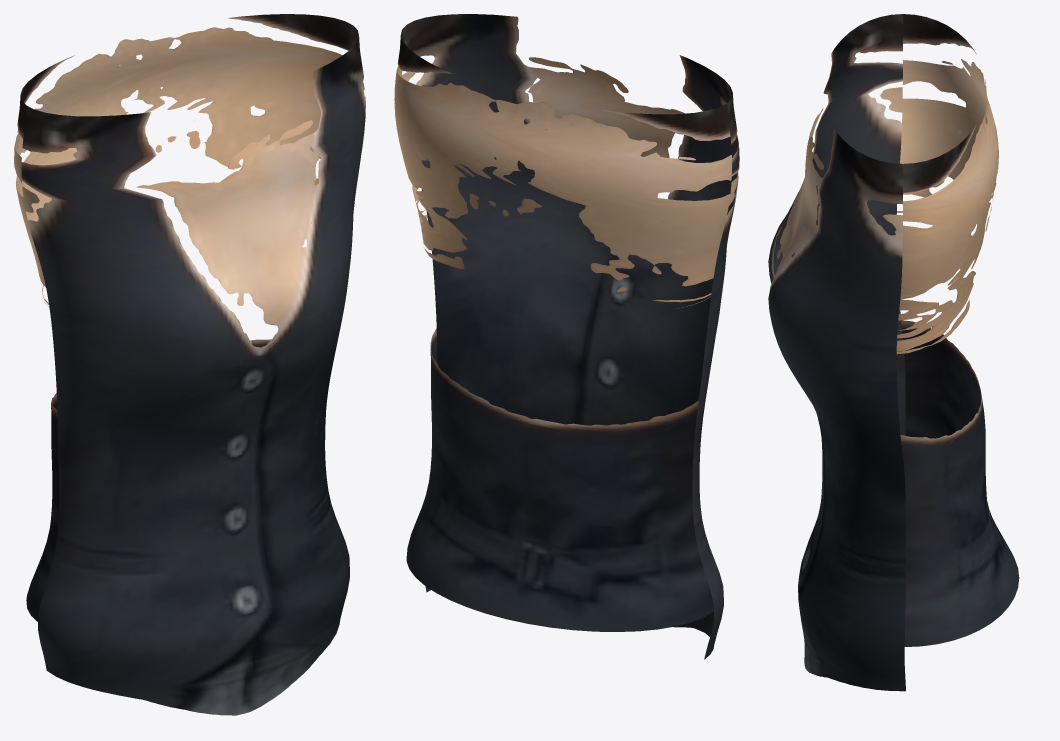
The model's file is prod-ae-noir-halter-vest.glb.
3 renders of one model, left to right at view 1: azimuth 30°, elevation 25°; view 2: azimuth 150°, elevation 25°; view 3: azimuth 270°, elevation 25°, orthographic. The views are drawn at different scales.
Parts seen in each view (by area): view 1: prod-ae-noir-halter-vest; view 2: prod-ae-noir-halter-vest; view 3: prod-ae-noir-halter-vest.
Boxes of the visible parts, x1,y1,x2,y2 form: prod-ae-noir-halter-vest: [14, 14, 365, 715]; prod-ae-noir-halter-vest: [394, 14, 739, 659]; prod-ae-noir-halter-vest: [768, 14, 1019, 691].
Bounding box in the file's own units: 0.2434 × 0.4215 × 0.1848.
Materials: 1 (1 with a texture image).
